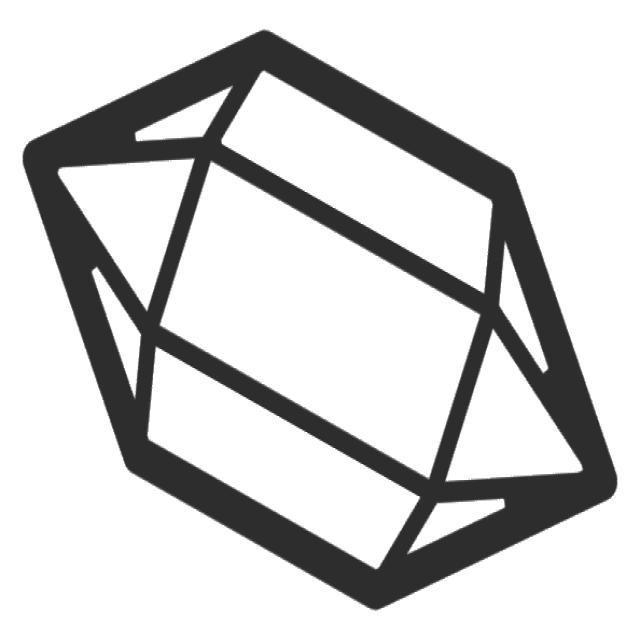crystal: (8, 20, 632, 625)
